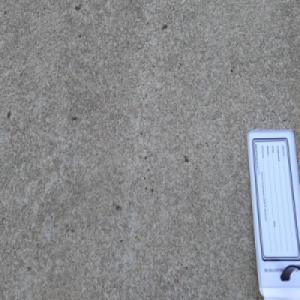LuggageTag: (245, 127, 299, 300)
